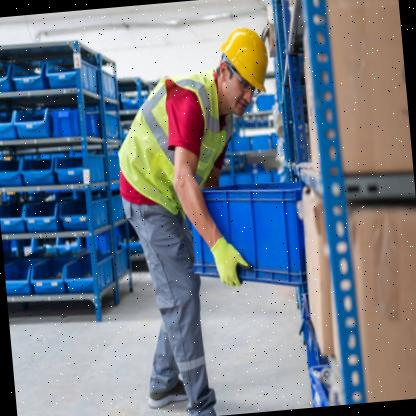capacete: (218, 23, 274, 98)
